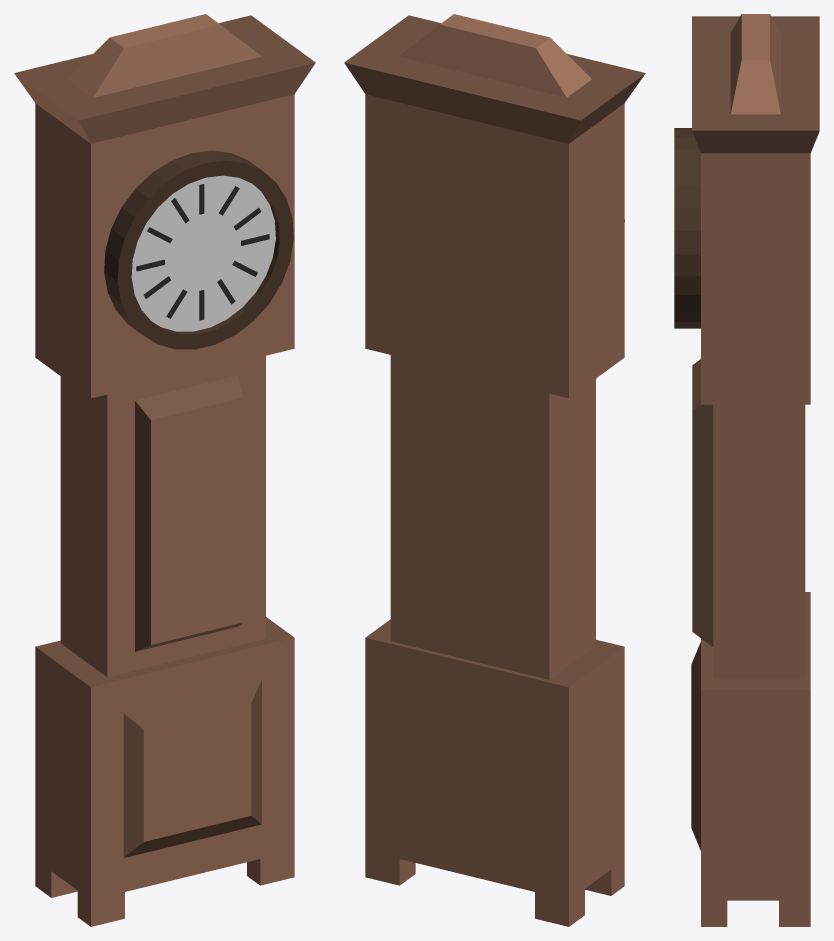
Rendered from wall-clock-2.glb.
The picture shows the model from 3 angles, left to right: view 1: azimuth 30°, elevation 25°; view 2: azimuth 150°, elevation 25°; view 3: azimuth 270°, elevation 25°; orthographic projection.
Visible parts, largest first — view 1: Cube.014, Cube.012, Cube.013, Cylinder; view 2: Cube.012, Cube.014, Cube.013; view 3: Cube.012, Cube.013, Cube.014, Cylinder.
Part boxes in pixels (box(x1,y1,x2,y2)): Cube.014: box(35, 617, 294, 926); Cube.012: box(14, 14, 315, 398); Cube.013: box(60, 356, 265, 677); Cylinder: box(104, 150, 293, 349); Cube.012: box(344, 14, 645, 398); Cube.014: box(365, 619, 624, 926); Cube.013: box(390, 355, 595, 679); Cube.012: box(692, 14, 819, 404); Cube.013: box(692, 359, 805, 679); Cube.014: box(691, 592, 810, 926); Cylinder: box(674, 128, 700, 328).
Bounding box in the file's own units: 2.69 × 9.21 × 1.45.
